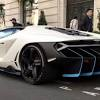Lamborghini: (1, 26, 99, 80)
